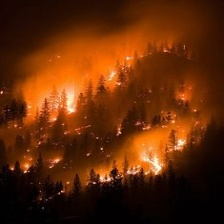fire: (29, 53, 132, 127), (125, 146, 163, 177), (93, 169, 119, 184), (173, 135, 189, 157), (47, 154, 63, 172), (20, 158, 32, 172)
